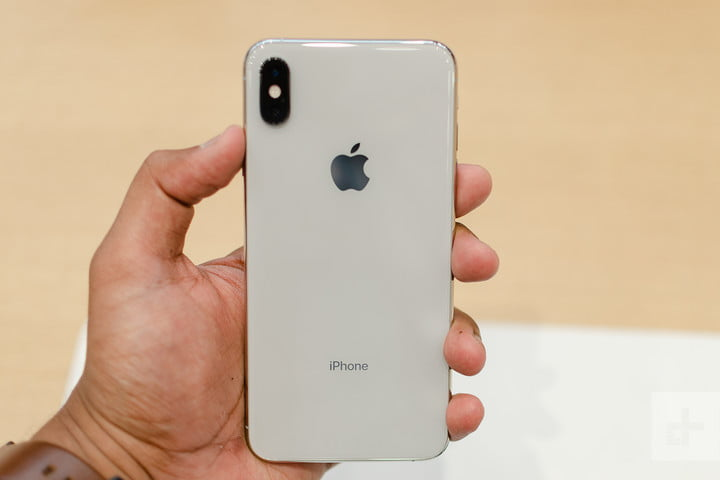apple: (321, 130, 384, 220)
